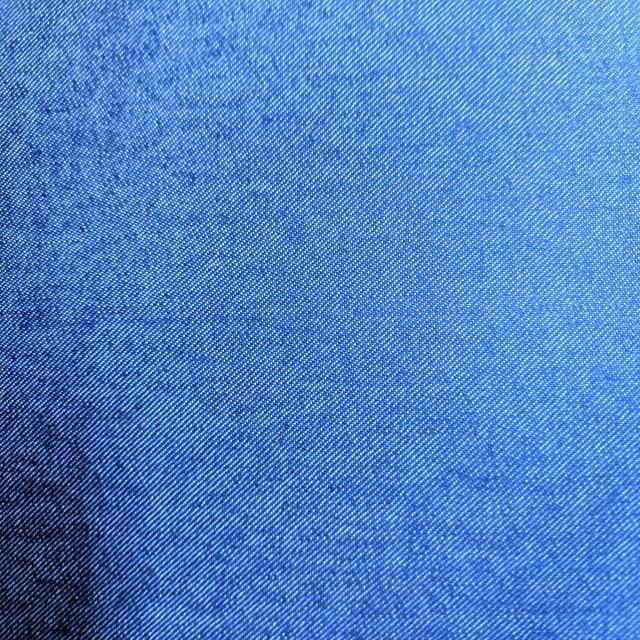Line: (36, 294, 628, 333)
